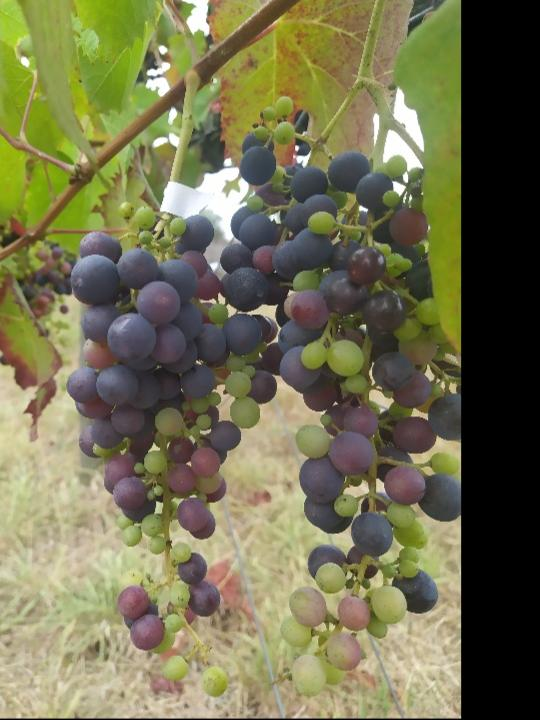grape: (217, 92, 461, 702), (63, 200, 280, 701)
